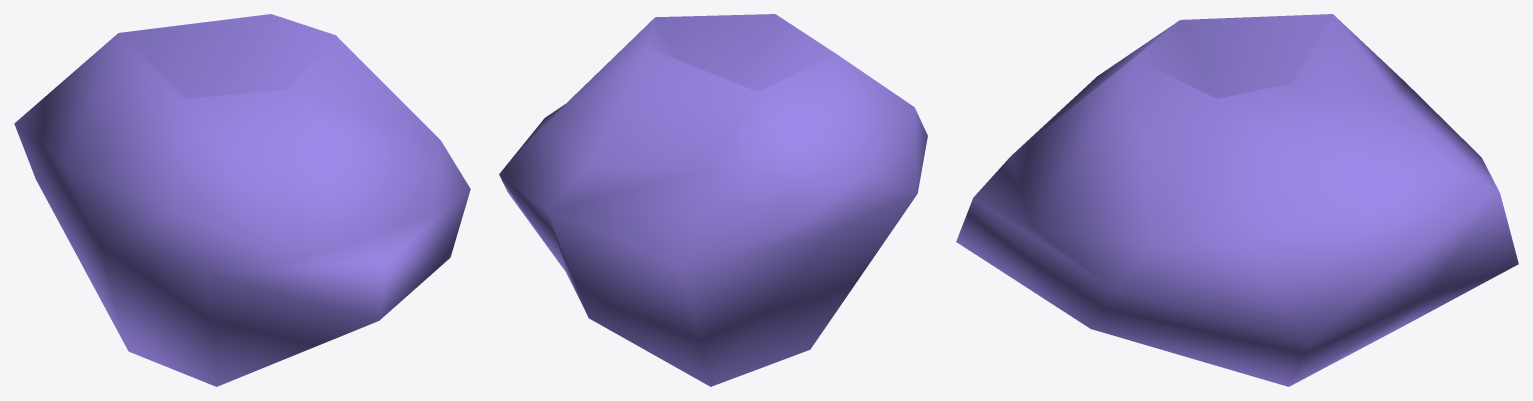
Rendered from oliveTreeMound.glb.
The picture shows the model from 3 angles, left to right: view 1: azimuth 30°, elevation 25°; view 2: azimuth 150°, elevation 25°; view 3: azimuth 270°, elevation 25°; orthographic projection. The views are drawn at different scales.
Visible parts, largest first — view 1: Icosphere; view 2: Icosphere; view 3: Icosphere.
Part boxes in pixels (x1,y1,x2,y2): Icosphere: (14, 14, 470, 386); Icosphere: (499, 14, 927, 386); Icosphere: (956, 14, 1518, 386).
Bounding box in the file's own units: 0.6729 × 0.5301 × 0.8527.
